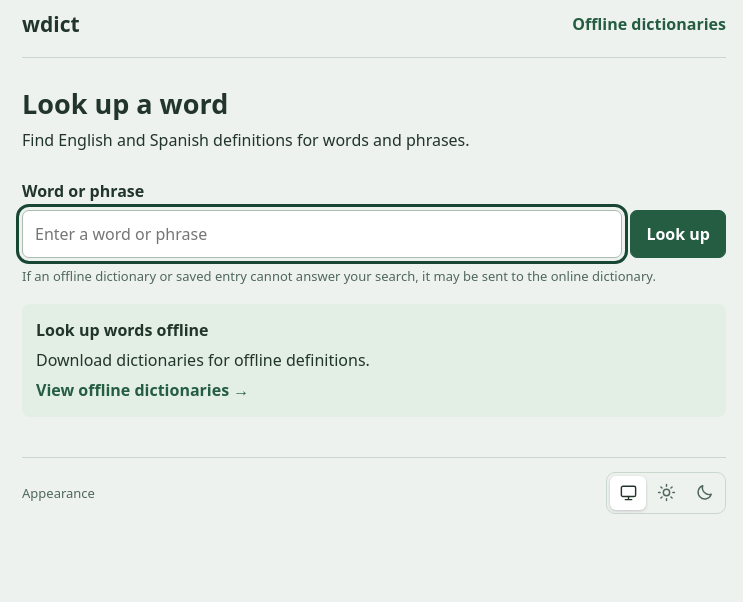
Scenario: lookup and offline dictionary UI › given_only_silent_errors_when_search_finishes_then_no_failure_or_false_not_found_is_shown
Click the button "Look up" at [678, 234], box [630,210,726,258]
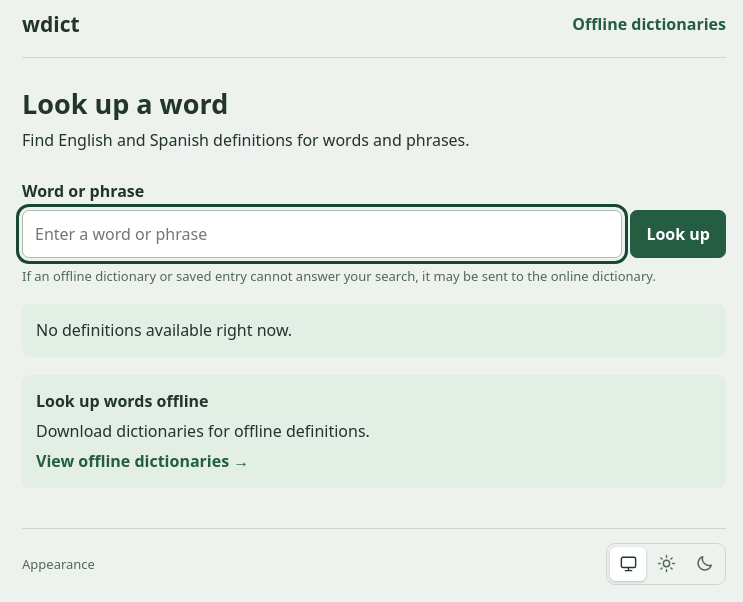
Expected: the text "No definitions available right now." is shown, [22,304,726,357]
